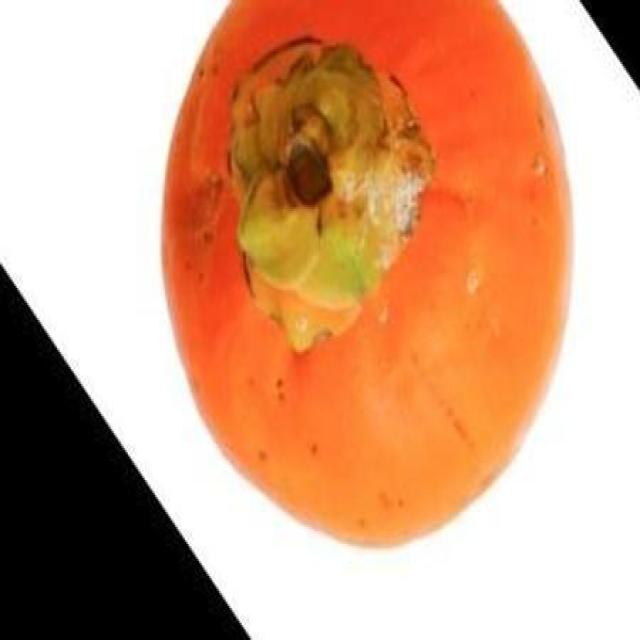good: (159, 0, 577, 553)
